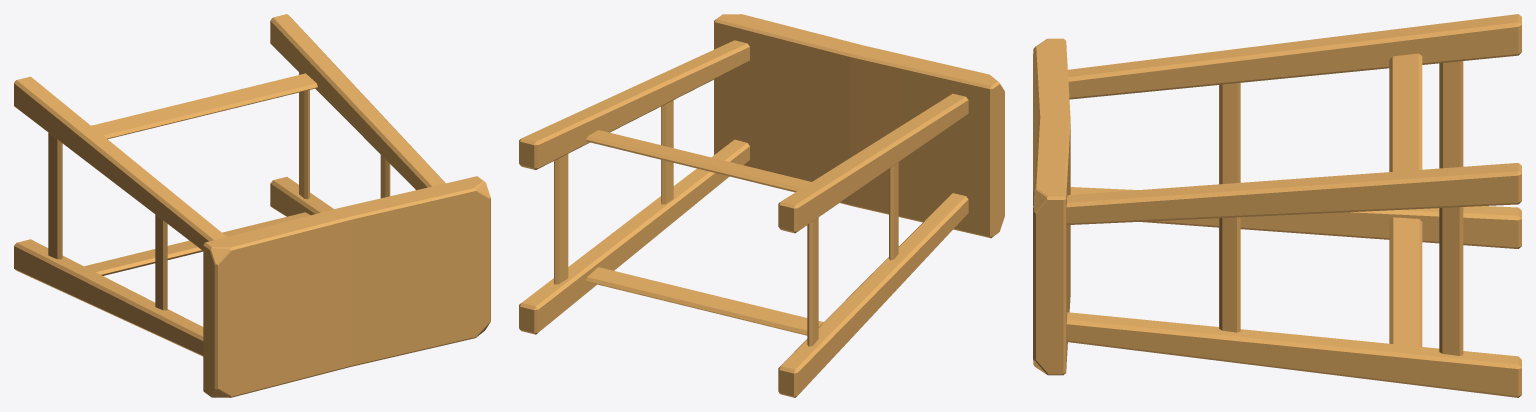
File: Chair_4_MeshCube_0.obj
3 renders of one model, left to right at view 1: azimuth 30°, elevation 25°; view 2: azimuth 150°, elevation 25°; view 3: azimuth 270°, elevation 25°, orthographic. The views are drawn at different scales.
Parts seen in each view (by area): view 1: Cube; view 2: Cube; view 3: Cube.
Boxes of the visible parts, <box> form: Cube: <box>14,14,490,397</box>; Cube: <box>519,14,1004,397</box>; Cube: <box>1033,14,1521,397</box>.
Size of the model in its own units: 0.3561 by 0.2338 by 0.4564.
